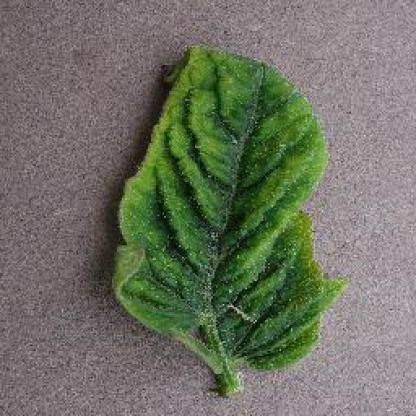good leaf: (150, 64, 324, 375)
